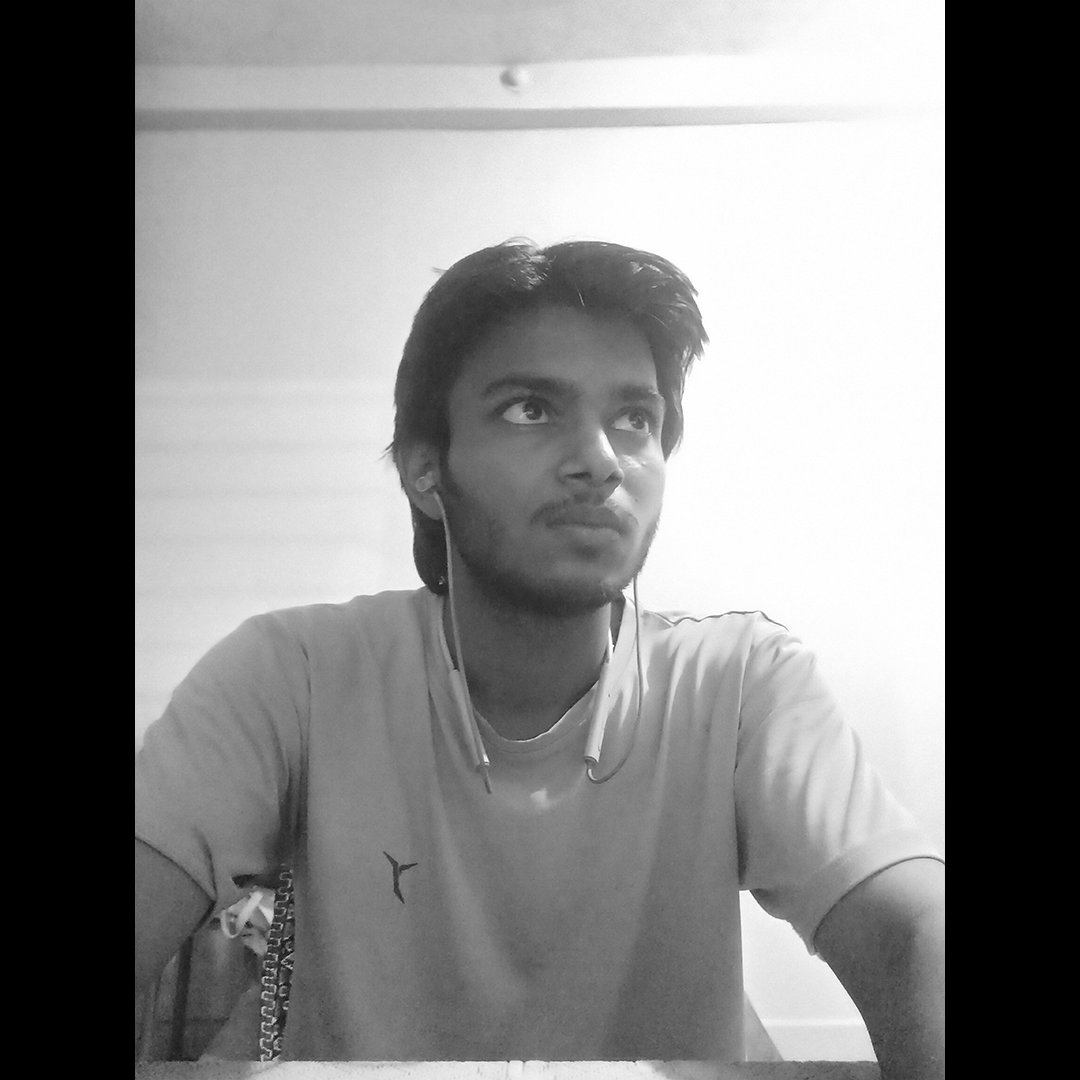distracted: (283, 100, 898, 980)
